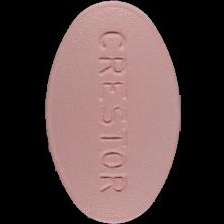50090-1097: (0, 0, 224, 224)
